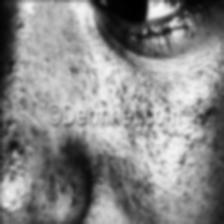Unclassified: (3, 136, 24, 160), (64, 147, 86, 168), (196, 101, 215, 123)
